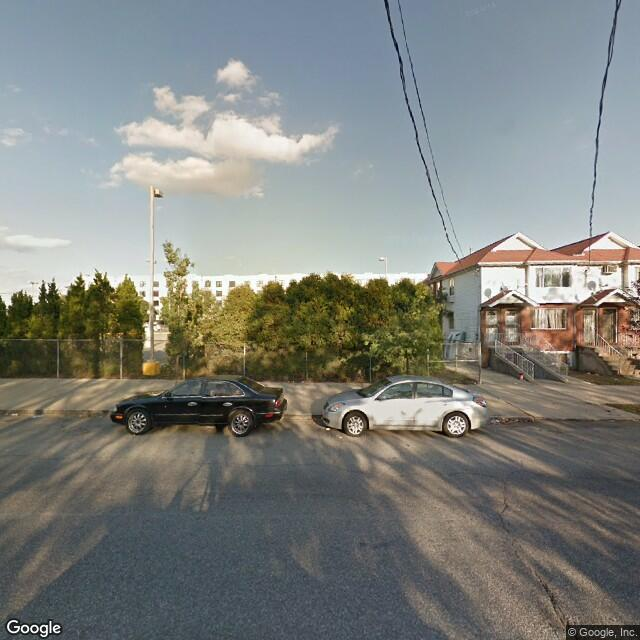litter: (9, 411, 20, 416), (325, 425, 329, 431)
